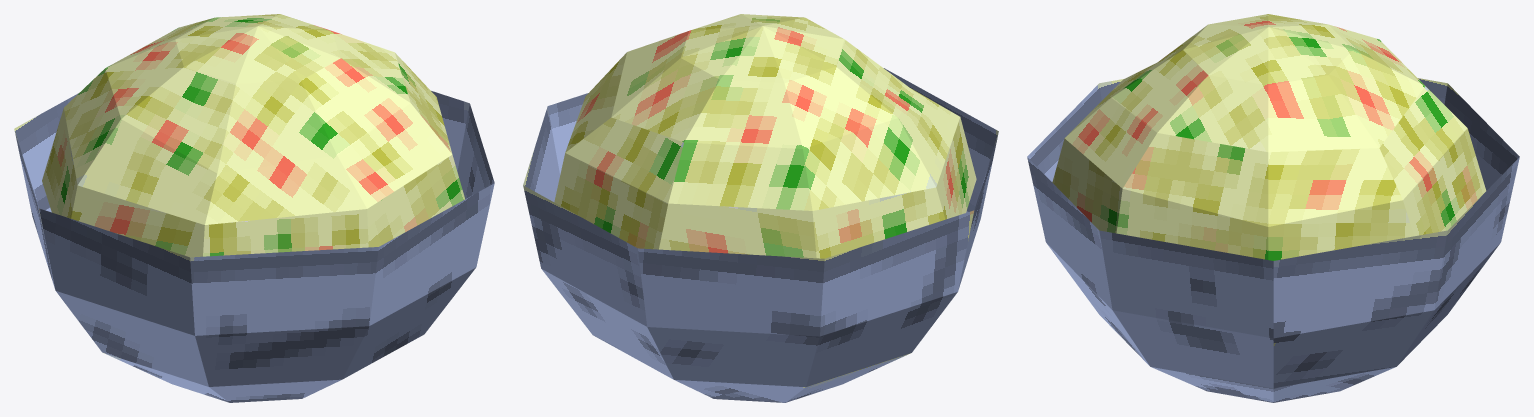
The model's file is fried_rice.glb.
3 renders of one model, left to right at view 1: azimuth 30°, elevation 25°; view 2: azimuth 150°, elevation 25°; view 3: azimuth 270°, elevation 25°, orthographic.
Parts seen in each view (by area): view 1: Sphere.003; view 2: Sphere.003; view 3: Sphere.003.
Part boxes in pixels (x1,y1,x2,y2): Sphere.003: [14, 14, 494, 402]; Sphere.003: [523, 14, 998, 402]; Sphere.003: [1027, 14, 1519, 402].
Size of the model in its own units: 3.76 by 2.87 by 3.76.
Materials: 1 (1 with a texture image).
